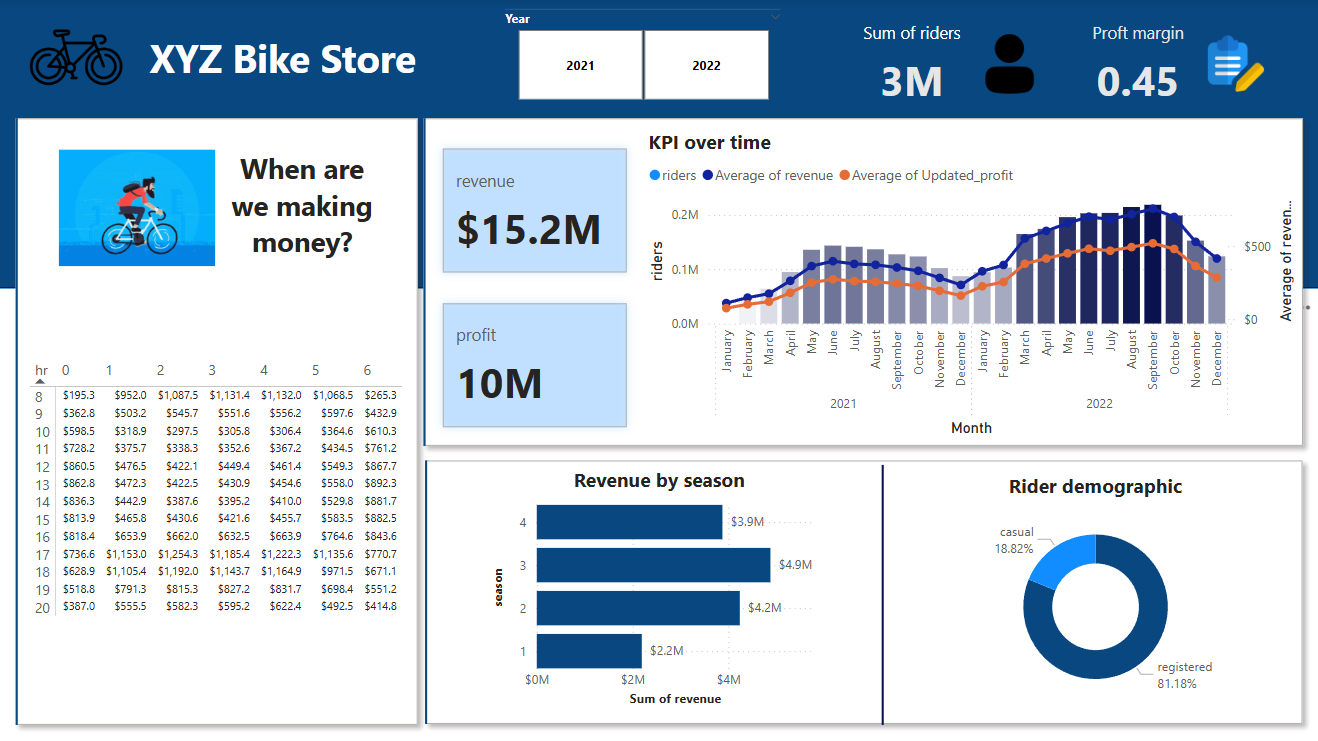

What the dashboard file says about the page in this screenshot:
{"tool":"powerbi","page":{"name":"Page 1","canvas":[1280,720],"ordinal":0},"visuals":[{"type":"shape","box":[0,0,1280,280],"z":0},{"type":"cardVisual","fields":{"Data":["Sum(bike_cost_combined.riders)"]},"box":[0,98.3,423.3,621.7],"z":1000},{"type":"cardVisual","fields":{"Data":["Sum(bike_cost_combined.riders)"]},"box":[395.8,429.2,883.3,289.6],"z":2000},{"type":"cardVisual","fields":{"Data":["Sum(bike_cost_combined.riders)"]},"box":[38,128,198,148],"z":3000},{"type":"pivotTable","fields":{"Rows":["bike_cost_combined.hr"],"Values":["Avg(bike_cost_combined.revenue)"],"Columns":["bike_cost_combined.weekday"]},"box":[26,344,374,270],"z":4000},{"type":"cardVisual","fields":{"Data":["Sum(bike_cost_combined.riders)"]},"box":[395,98.3,885,351.7],"z":5000},{"type":"lineClusteredColumnComboChart","title":"KPI over time","fields":{"Category":["bike_cost_combined.dteday.Variation.Date Hierarchy.Year","bike_cost_combined.dteday.Variation.Date Hierarchy.Month","bike_cost_combined.dteday.Variation.Date Hierarchy.Day"],"Y":["Sum(bike_cost_combined.riders)"],"Y2":["Avg(bike_cost_combined.revenue)","Avg(bike_cost_combined.Updated_profit)"]},"box":[624,126,634,302],"z":6000},{"type":"clusteredBarChart","title":"Revenue by season","fields":{"Category":["bike_cost_combined.season"],"Y":["Sum(bike_cost_combined.revenue)"]},"box":[472.9,452.1,333.3,237.5],"z":7000},{"type":"donutChart","title":"Rider demographic","fields":{"Category":["bike_cost_combined.rider_type"],"Y":["Sum(bike_cost_combined.riders)"]},"box":[935.4,458.3,252.1,235.4],"z":8000},{"type":"shape","box":[706,450,300,252],"z":9000},{"type":"cardVisual","title":"KPI over time","fields":{"Data":["Sum(bike_cost_combined.revenue)","Sum(bike_cost_combined.Updated_profit)"]},"box":[414,128,210,302],"z":10000},{"type":"slicer","fields":{"Values":["bike_cost_combined.Custom"]},"box":[478,4,292,100],"z":11000},{"type":"cardVisual","fields":{"Data":["Sum(bike_cost_combined.riders)","bike_cost_combined.Proft margin"]},"box":[806,4,436,100],"z":12000},{"type":"textbox","box":[210,140,168,118],"z":13000},{"type":"image","box":[26,4,100,104],"z":14000},{"type":"textbox","box":[126,26,300,82],"z":15000}]}

Visuals, with their boxes in screenshot pixels (x1, y1, x2, y2), scaled from the page's 1280x720 canvas onto the 1318x741 screenshot:
shape: (x1=0, y1=0, x2=1317, y2=288)
cardVisual - Sum(bike_cost_combined.riders): (x1=0, y1=101, x2=436, y2=740)
cardVisual - Sum(bike_cost_combined.riders): (x1=408, y1=442, x2=1317, y2=740)
cardVisual - Sum(bike_cost_combined.riders): (x1=39, y1=132, x2=243, y2=284)
pivotTable - bike_cost_combined.hr x Avg(bike_cost_combined.revenue): (x1=27, y1=354, x2=412, y2=632)
cardVisual - Sum(bike_cost_combined.riders): (x1=407, y1=101, x2=1317, y2=463)
"KPI over time" lineClusteredColumnComboChart: (x1=643, y1=130, x2=1295, y2=440)
"Revenue by season" clusteredBarChart: (x1=487, y1=465, x2=830, y2=710)
"Rider demographic" donutChart: (x1=963, y1=472, x2=1223, y2=714)
shape: (x1=727, y1=463, x2=1036, y2=722)
"KPI over time" cardVisual: (x1=426, y1=132, x2=643, y2=443)
slicer - bike_cost_combined.Custom: (x1=492, y1=4, x2=793, y2=107)
cardVisual - Sum(bike_cost_combined.riders) x bike_cost_combined.Proft margin: (x1=830, y1=4, x2=1279, y2=107)
textbox: (x1=216, y1=144, x2=389, y2=266)
image: (x1=27, y1=4, x2=130, y2=111)
textbox: (x1=130, y1=27, x2=439, y2=111)
